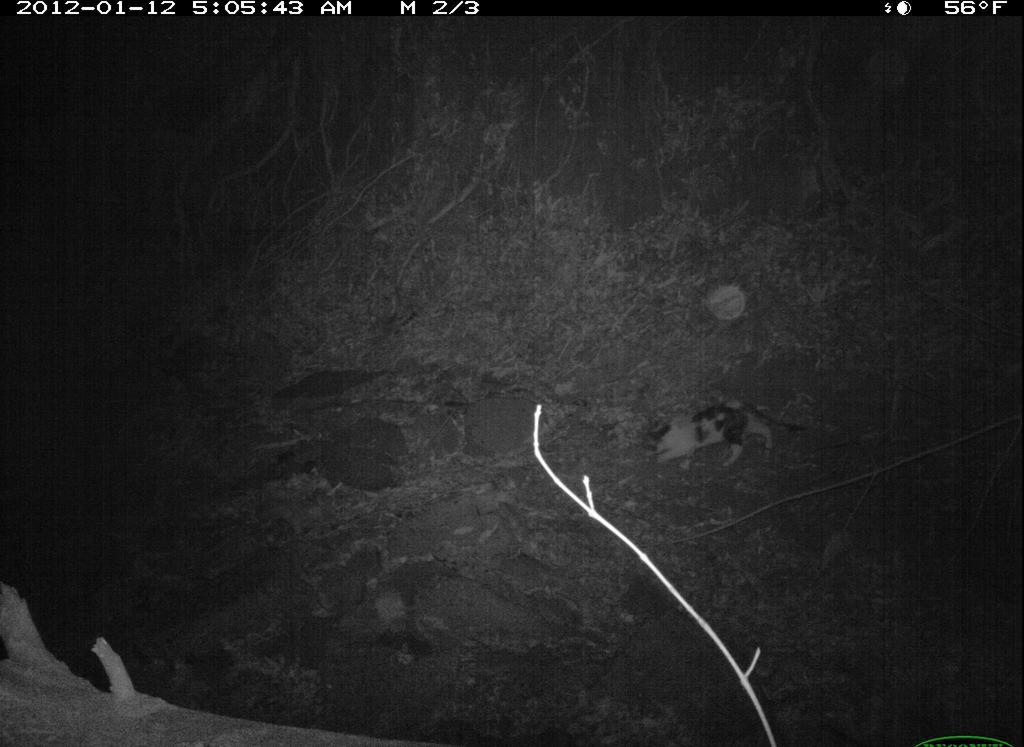cat: (643, 401, 817, 478)
